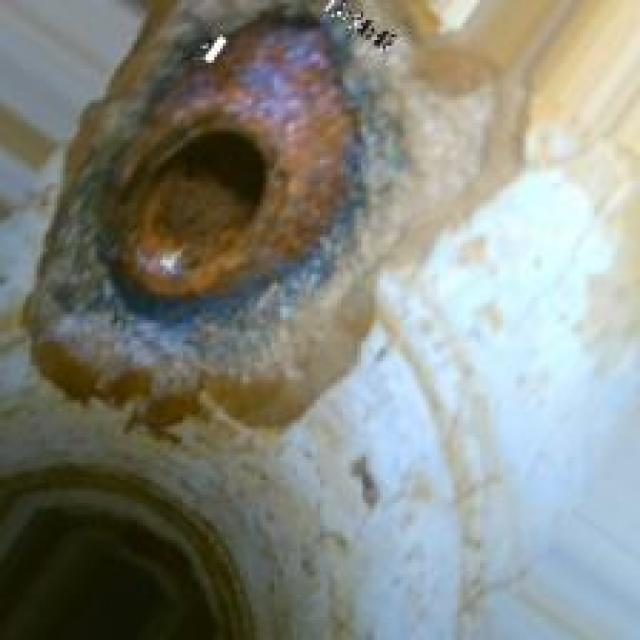ferrule: (80, 46, 374, 317)
